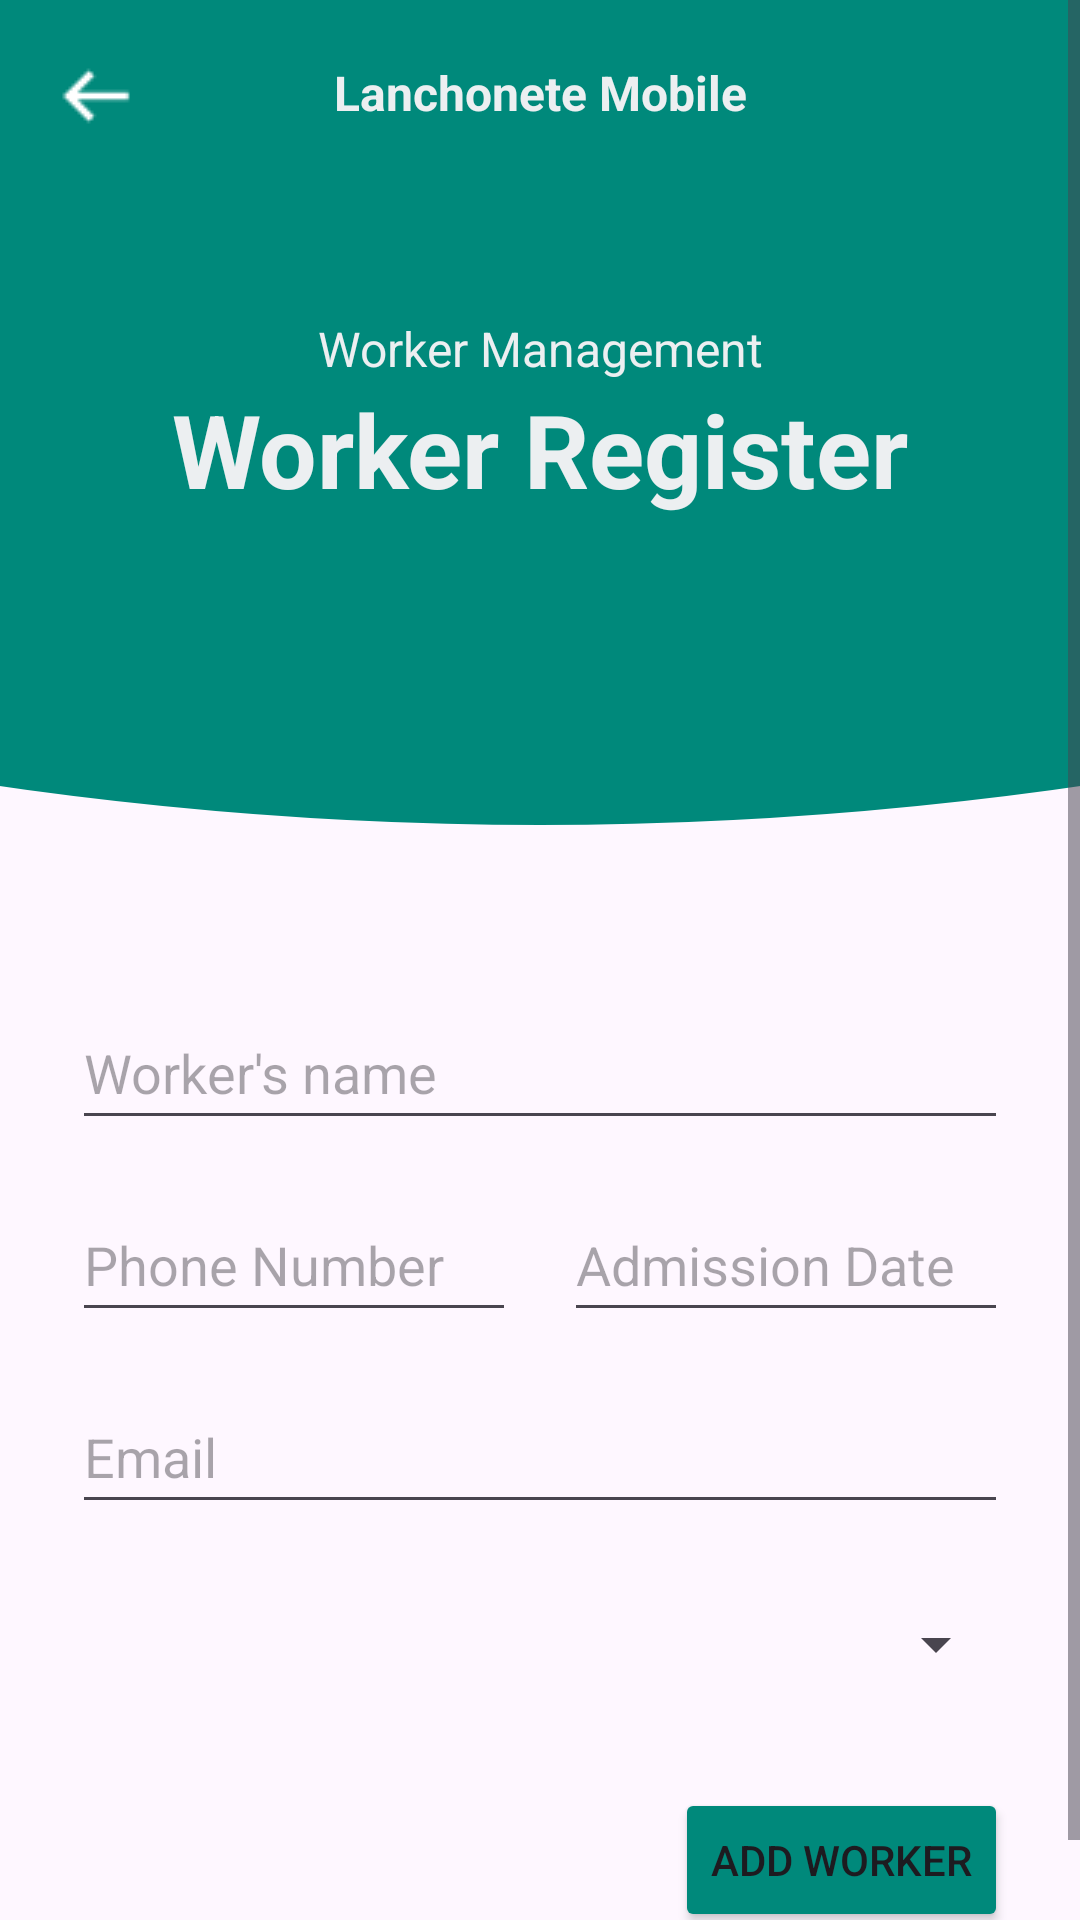

Point at icon controls on the screen. Image size 1080 × 1920, points as [x,y].
Back: [96,96]
